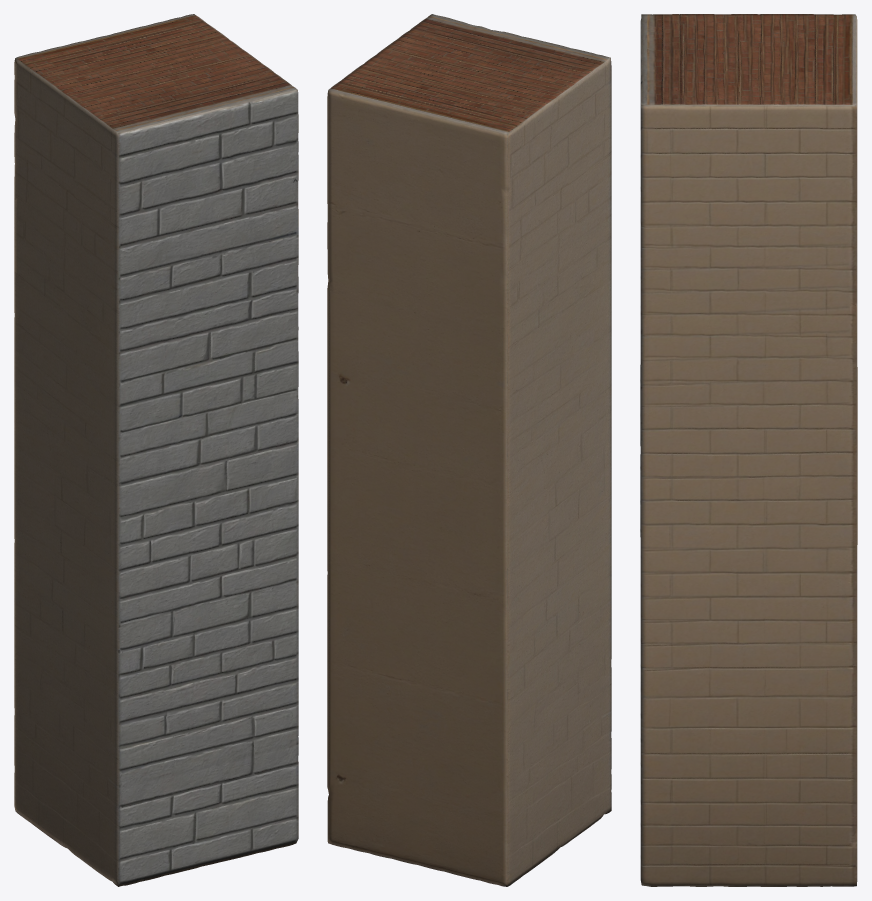
Rendered from wall3.glb.
3 views of the same model, side by side, from view 1: azimuth 30°, elevation 25°; view 2: azimuth 150°, elevation 25°; view 3: azimuth 270°, elevation 25° (orthographic). The views are drawn at different scales.
Size of the model in its own units: 0.5036 by 2 by 0.5039.
Materials: 1 (1 with a texture image).
